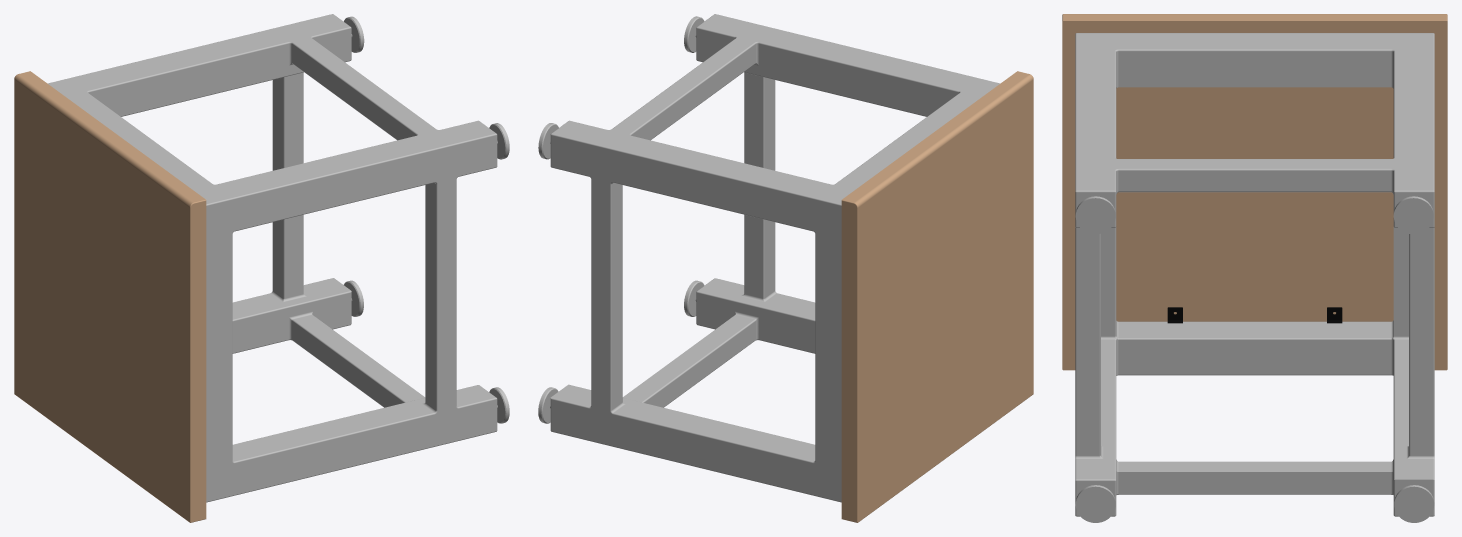
File: Workbench.fbx
3 views of the same model, side by side, from view 1: azimuth 30°, elevation 25°; view 2: azimuth 150°, elevation 25°; view 3: azimuth 270°, elevation 25° (orthographic). The views are drawn at different scales.
Parts seen in each view (by area): view 1: 3DGeom-2, DESKA; view 2: 3DGeom-2, DESKA; view 3: 3DGeom-2, DESKA.
Part boxes in pixels (<box>): 3DGeom-2: <box>48,14,509,502</box>; DESKA: <box>14,71,206,522</box>; 3DGeom-2: <box>538,14,999,502</box>; DESKA: <box>841,71,1033,522</box>; 3DGeom-2: <box>1075,33,1434,522</box>; DESKA: <box>1062,14,1447,370</box>.
Size of the model in its own units: 0.8 by 0.75 by 0.75.
